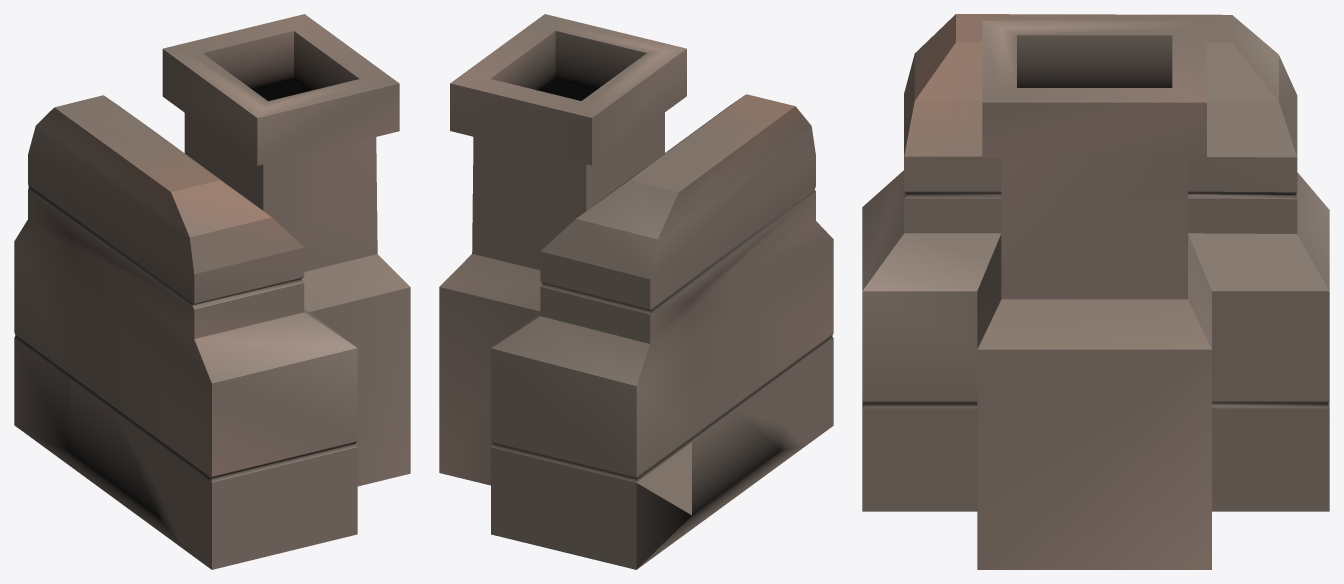
Rendered from FurnaceBaseLeft.fbx.
3 views of the same model, side by side, from view 1: azimuth 30°, elevation 25°; view 2: azimuth 150°, elevation 25°; view 3: azimuth 270°, elevation 25° (orthographic). The views are drawn at different scales.
Parts seen in each view (by area): view 1: FurnaceLeft; view 2: FurnaceLeft; view 3: FurnaceLeft.
Part boxes in pixels (x1,y1,x2,y2): FurnaceLeft: [14, 14, 410, 569]; FurnaceLeft: [439, 14, 833, 569]; FurnaceLeft: [862, 14, 1329, 569].
Bounding box in the file's own units: 66.79 × 100 × 91.91.
